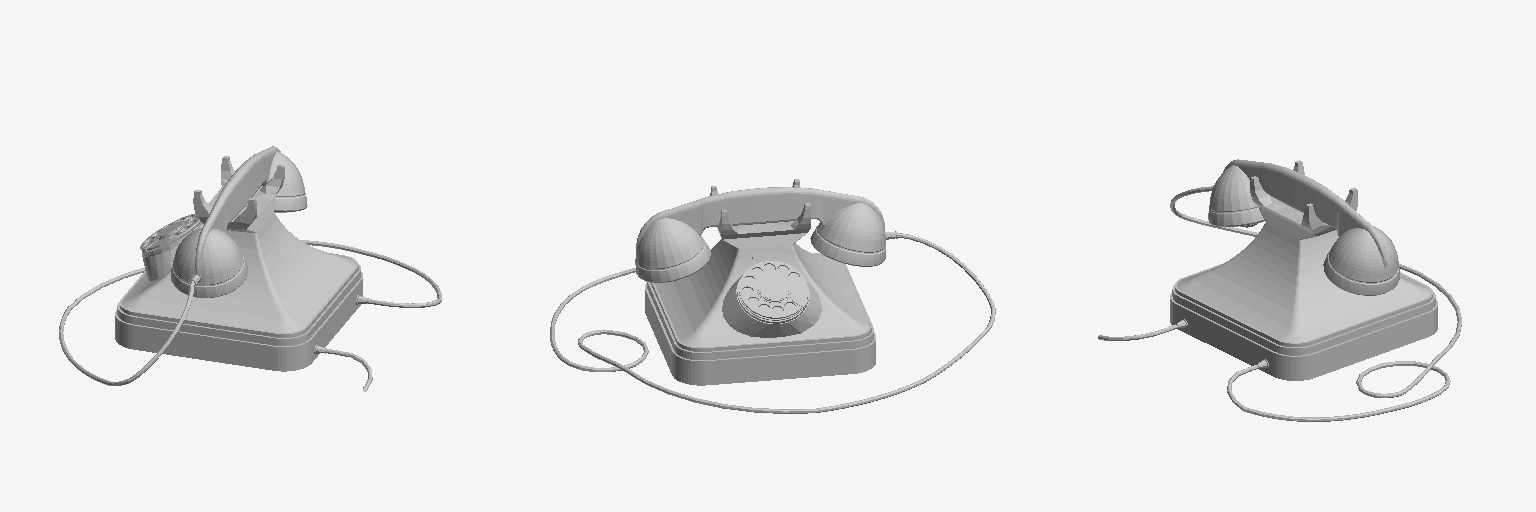
Rendered from Telephone fixed.obj.
3 renders of one model, left to right at view 1: azimuth 30°, elevation 25°; view 2: azimuth 150°, elevation 25°; view 3: azimuth 270°, elevation 25°, orthographic.
Parts seen in each view (by area): view 1: Component0, Component2, Componen28, Componente, Agrupar_7_, Componen27, Group_009; view 2: Component1, Component2, Componen27, Componen28, Agrupar_7_, Group_009, Componente, Component0; view 3: Componente, Component0, Componen27, Component1, Componen28, Agrupar_7_.
Boxes of the visible parts, x1=… form: Component0: x1=204, y1=198, x2=336, y2=371; Component2: x1=115, y1=190, x2=229, y2=359; Componen28: x1=171, y1=171, x2=247, y2=297; Componente: x1=247, y1=164, x2=362, y2=332; Agrupar_7_: x1=59, y1=240, x2=441, y2=391; Componen27: x1=235, y1=146, x2=307, y2=212; Group_009: x1=140, y1=213, x2=203, y2=256; Component1: x1=659, y1=210, x2=778, y2=385; Component2: x1=763, y1=203, x2=875, y2=379; Componen27: x1=635, y1=188, x2=761, y2=282; Componen28: x1=761, y1=187, x2=885, y2=266; Agrupar_7_: x1=550, y1=233, x2=995, y2=413; Group_009: x1=737, y1=261, x2=808, y2=323; Componente: x1=645, y1=186, x2=729, y2=343; Component0: x1=792, y1=179, x2=859, y2=296; Componente: x1=1225, y1=203, x2=1370, y2=380; Component0: x1=1170, y1=176, x2=1296, y2=351; Componen27: x1=1297, y1=176, x2=1399, y2=295; Component1: x1=1323, y1=188, x2=1437, y2=357; Componen28: x1=1208, y1=159, x2=1304, y2=226; Agrupar_7_: x1=1098, y1=186, x2=1461, y2=421.
Size of the model in its own units: 280 by 113 by 240.